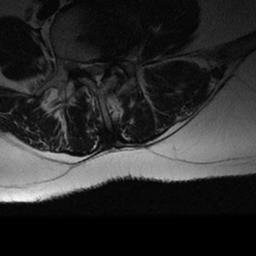CCS_normal: (93, 54, 102, 89)
LFS_severe_stenosis: (110, 49, 119, 72)
LLS_stenosis: (102, 55, 111, 78)
RFS_stenosis: (74, 53, 84, 76)
RLS_normal: (84, 54, 93, 82)
